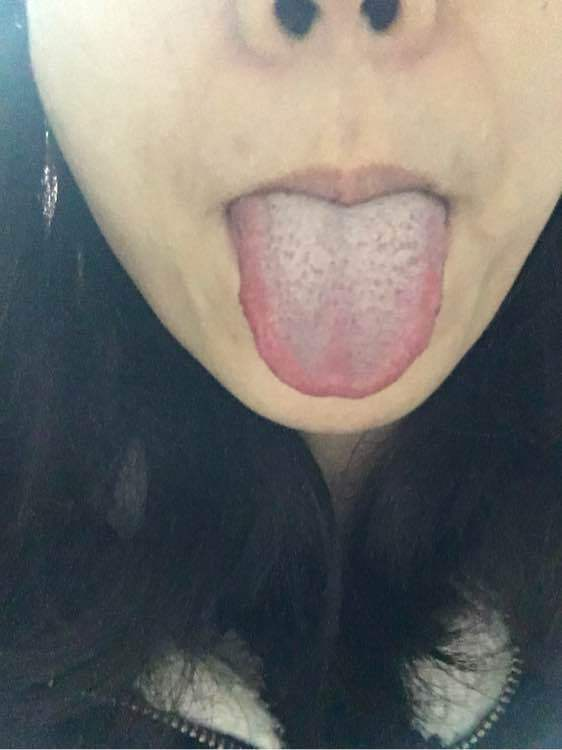baitaishe: (229, 191, 447, 399)
hongdianshe: (269, 202, 418, 300)
hongshe: (229, 191, 447, 399)
